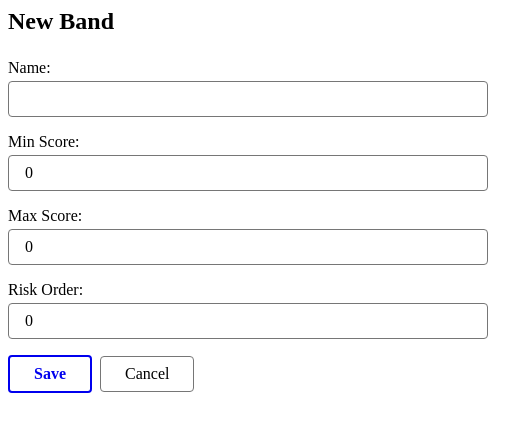
Scenario: RiskScoreBandEdit.vue › shows the server-provided message when a save is rejected (e.g. an overlapping range)
Type "Overlap Test" into the field labelled "Name:" at (248, 99), box [8,81,488,117]
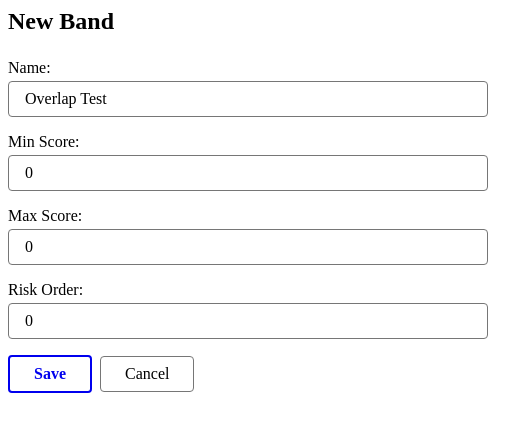
Submit the form
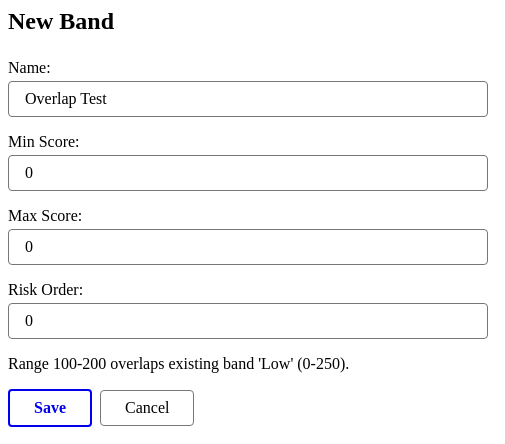
Result: the text "Range 100-200 overlaps existing band 'Low' (0-250)." is shown at [8,355,349,372]
